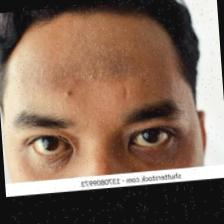Dry: (9, 21, 198, 178)
